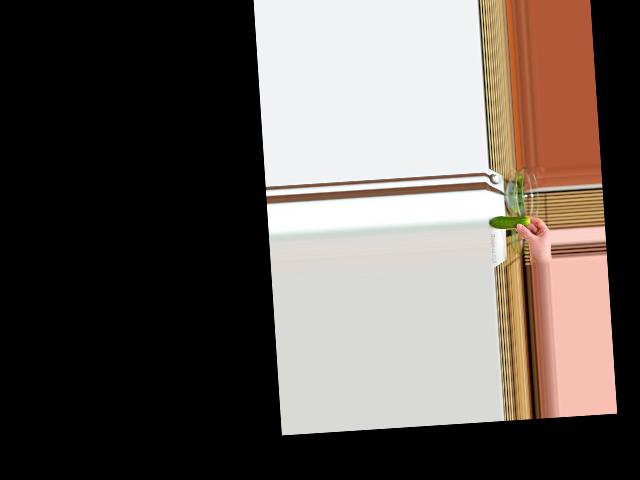cucumber: (489, 214, 530, 229)
